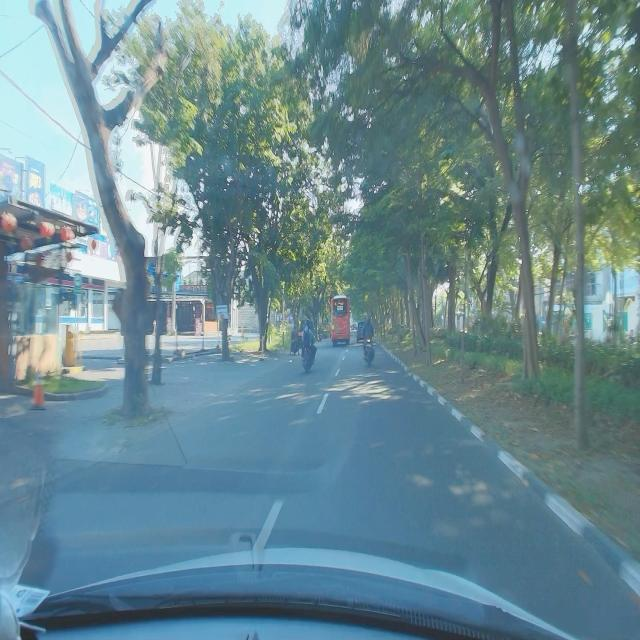bus: (330, 294, 351, 348)
